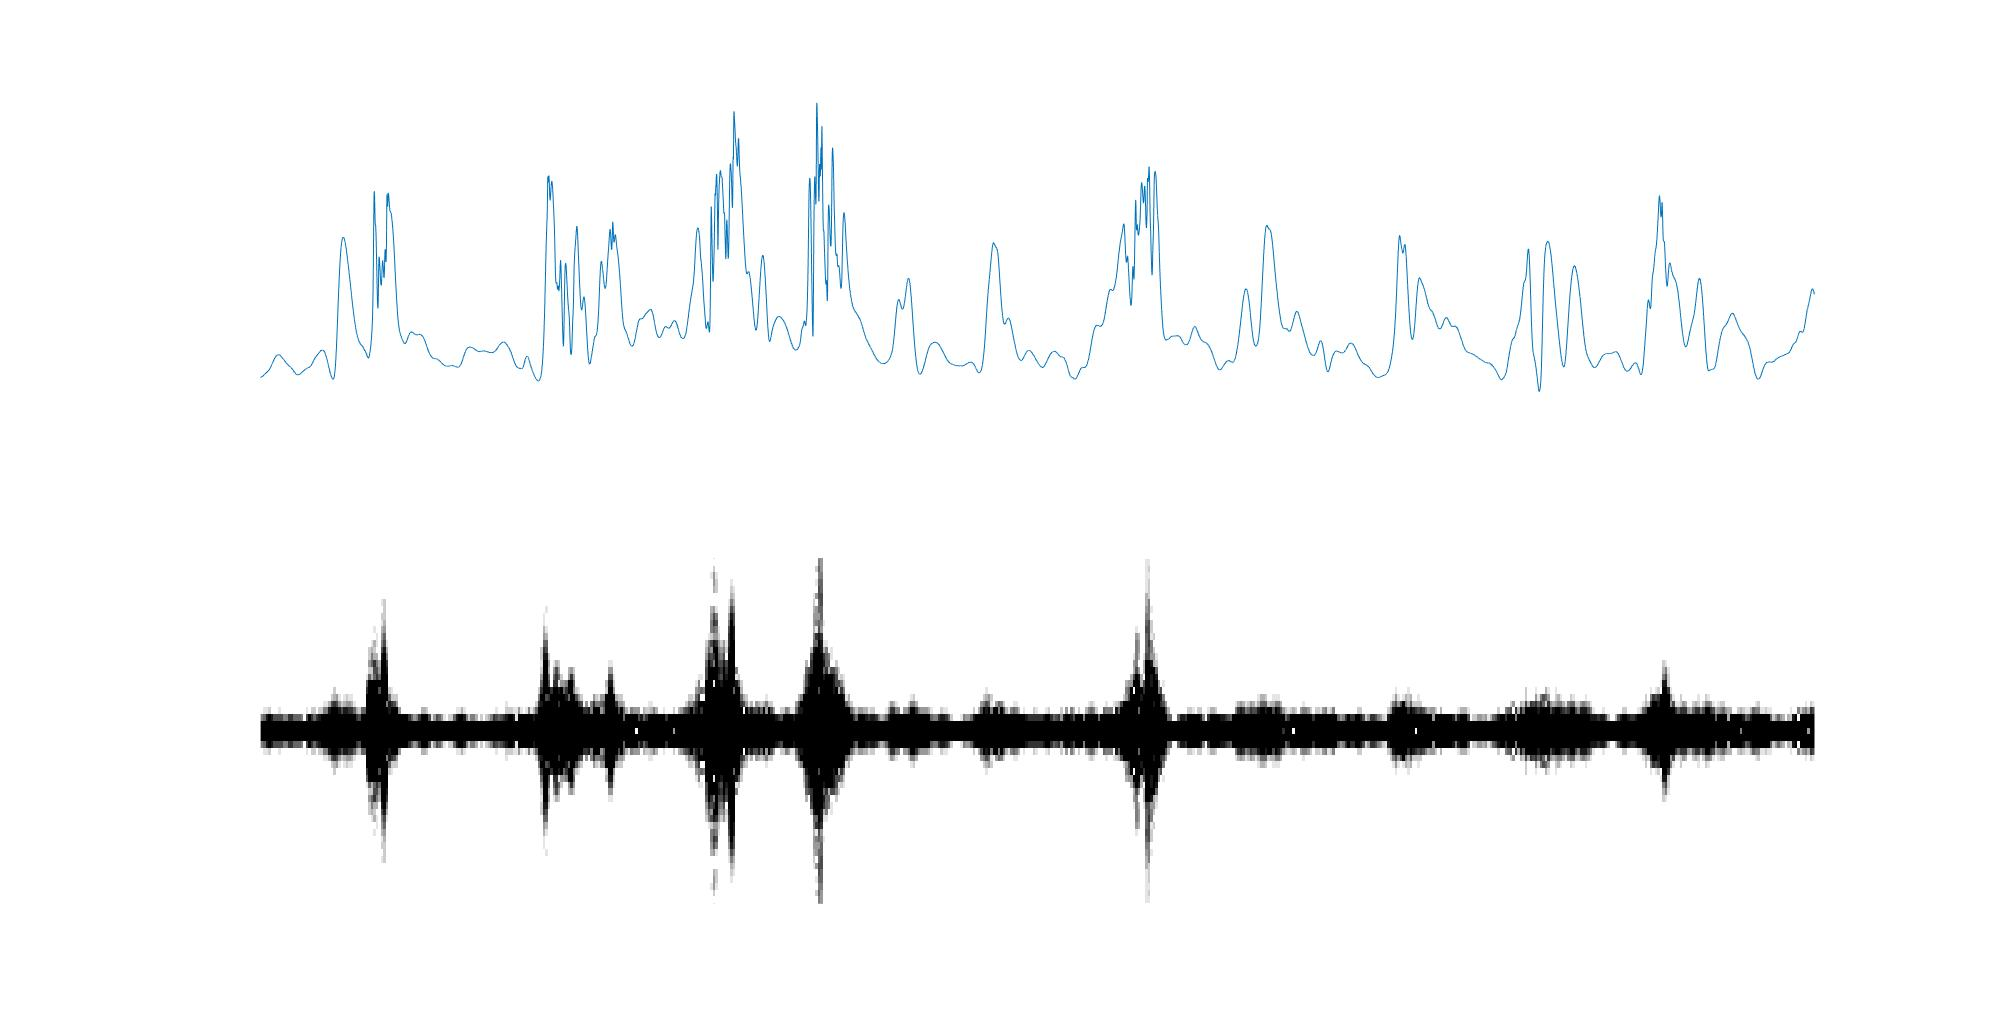spot: (1128, 561, 1168, 892), (804, 559, 842, 905), (367, 604, 392, 872)
